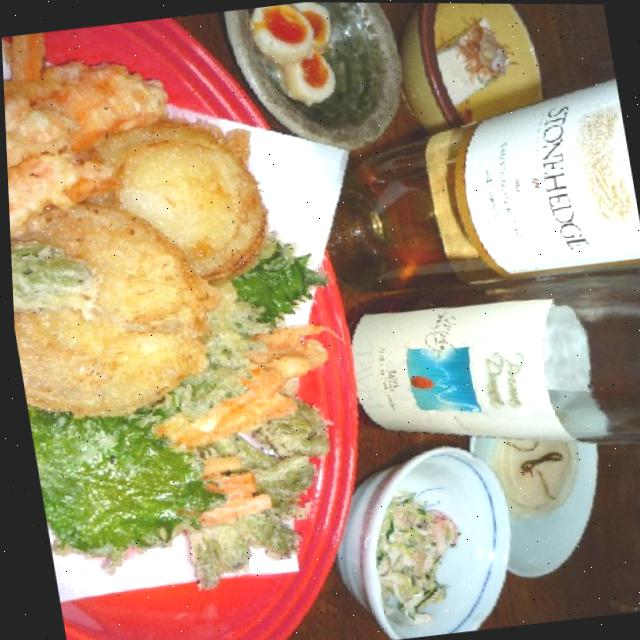蔬菜料理: (0, 1, 381, 593)
